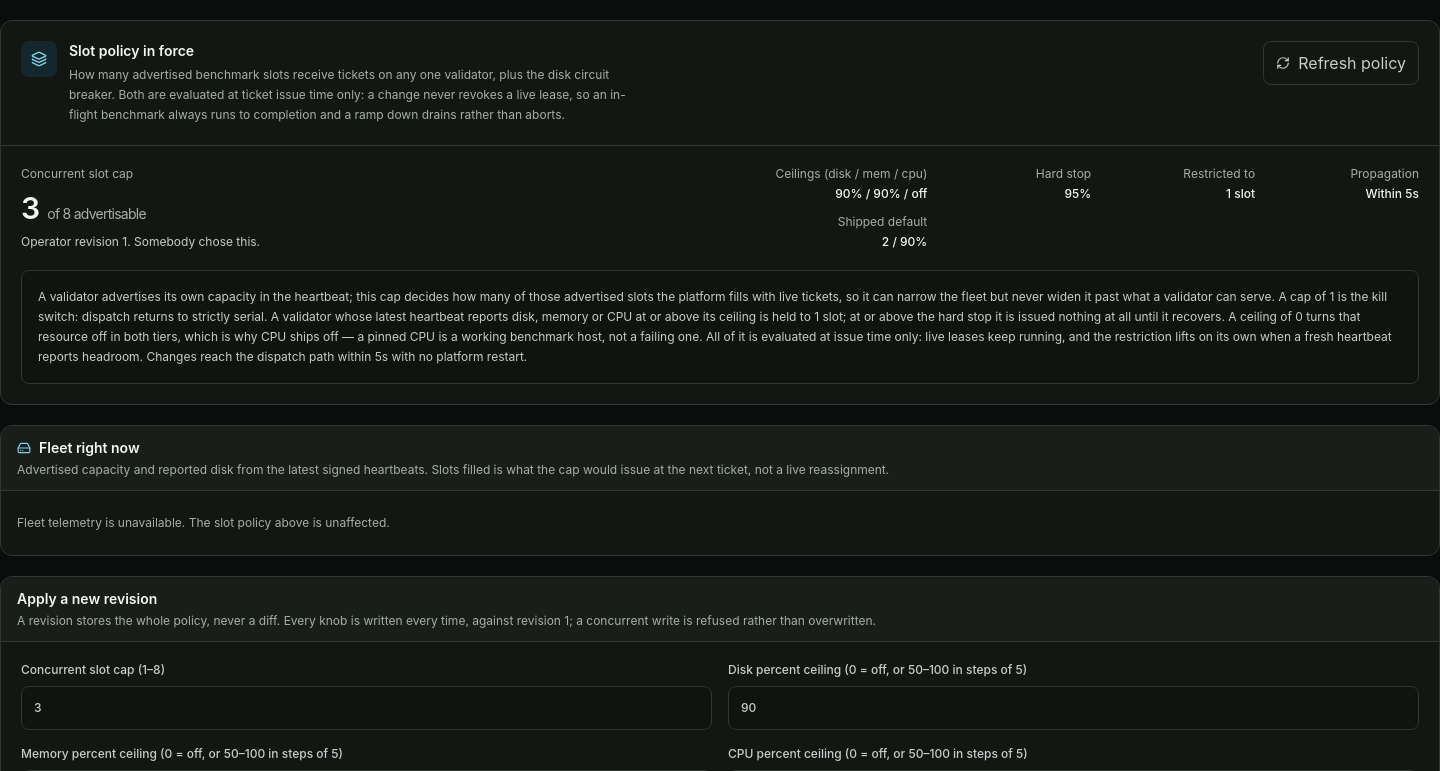
Test: ValidatorSlotControlPanel › refuses a cap above the protocol hard ceiling
The image size is (1440, 771).
Replace the text in the number field labelled "Concurrent slot cap (1–8)" with "9" at {"x": 366, "y": 708}, box [21,686,712,730]
(page scrolled)
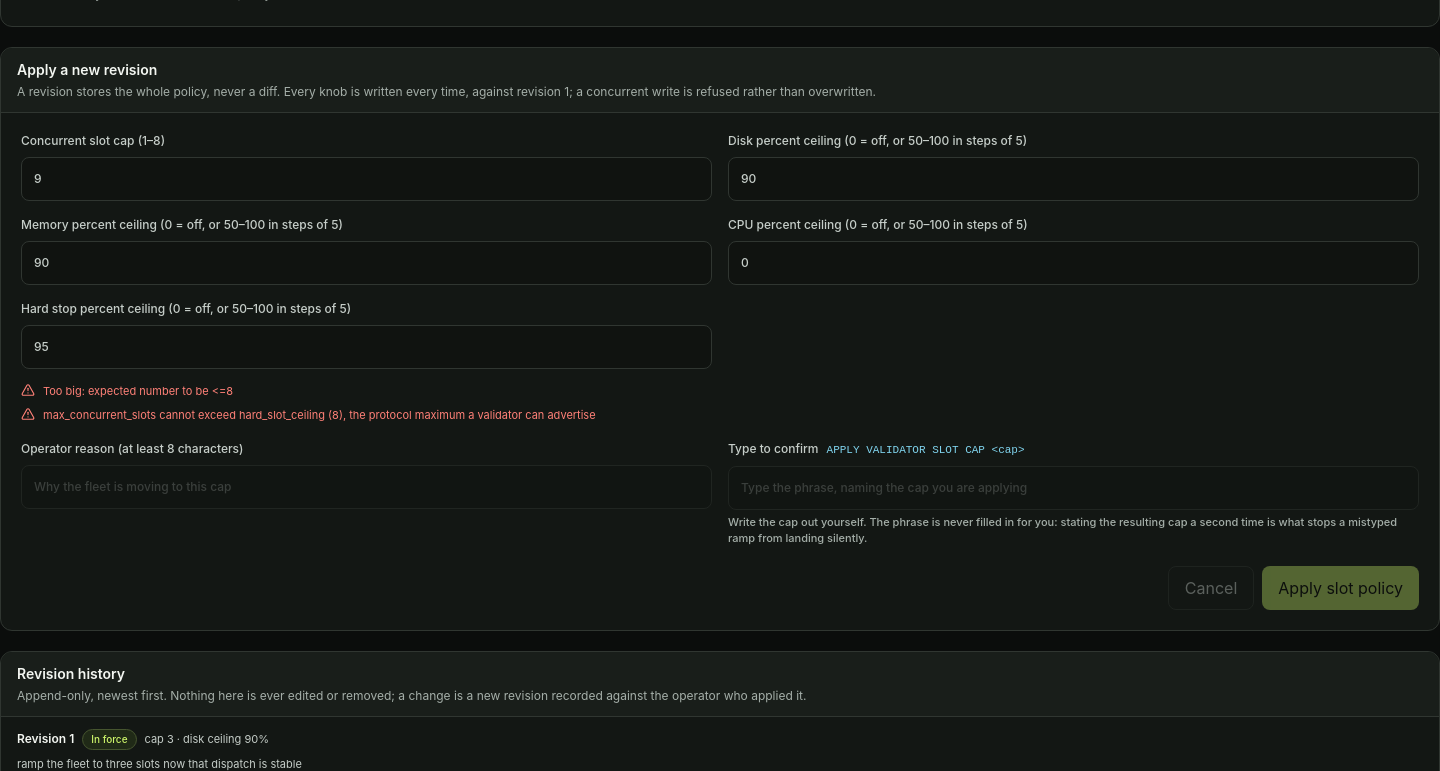
expect the button "Apply slot policy" is disabled: met, box [1262,566,1419,610]
expect the list item "hard_slot_ceiling" is shown: met, box [43,408,596,422]
